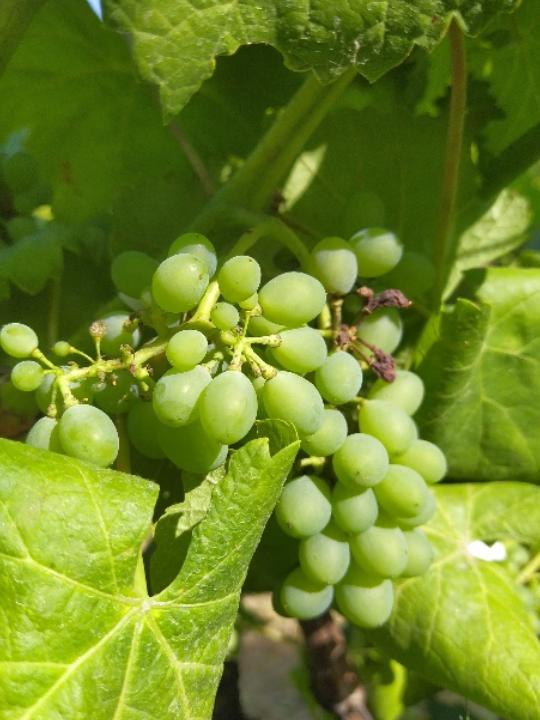grape: (0, 189, 456, 635)
